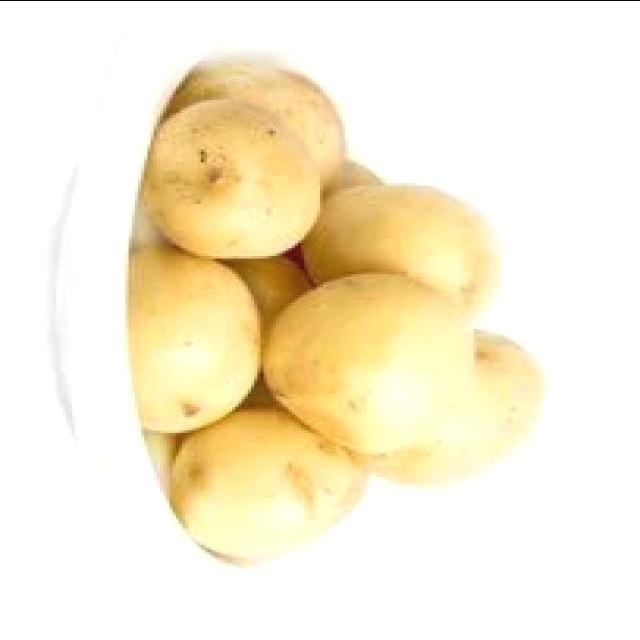potato: (260, 266, 477, 451), (354, 326, 544, 488), (295, 196, 508, 323), (187, 413, 364, 565), (130, 243, 270, 430), (150, 106, 323, 257), (173, 72, 347, 205), (237, 249, 315, 306), (331, 159, 384, 198)
